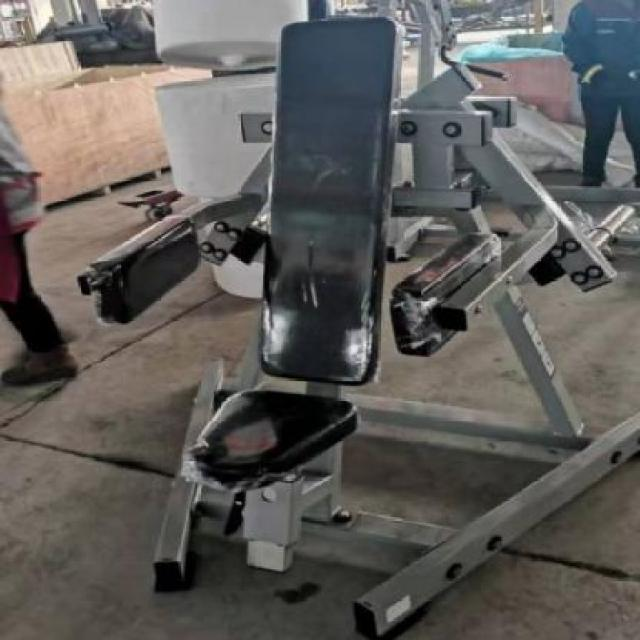lateral raises machine: (77, 19, 640, 638)
